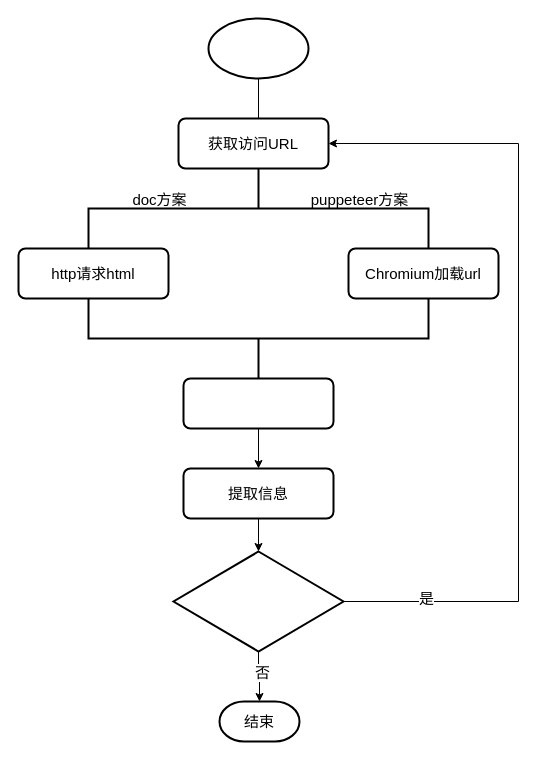
Some shapes in this 544 by 759 pixel diagram are drawn without their labels. The box of each missing label's shape, as (x1, y1, x2, y2) in pixels:
开始: (207, 17, 309, 79)
有下一页链接 且需要返回多页: (172, 550, 344, 652)
解析文本文档: (182, 377, 334, 429)
